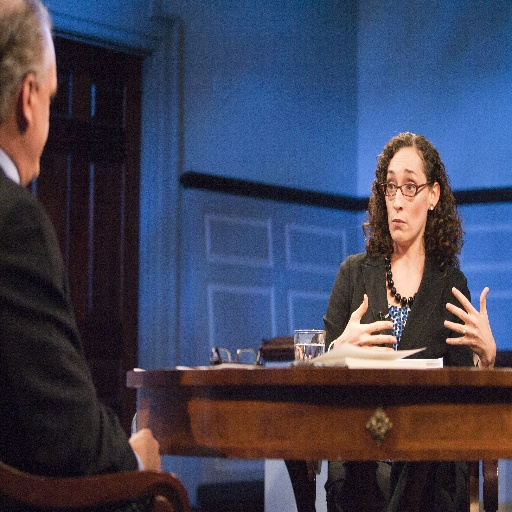hand: (331, 292, 398, 347), (453, 288, 495, 365), (127, 425, 163, 474)
